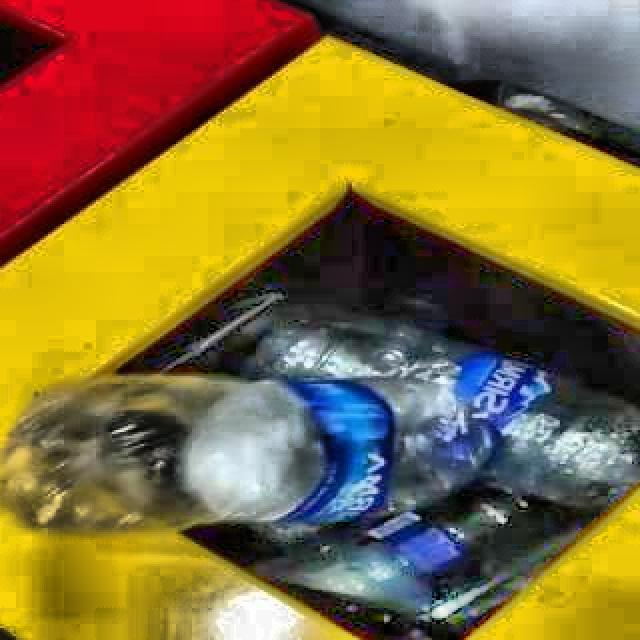plastic: (0, 375, 493, 533)
